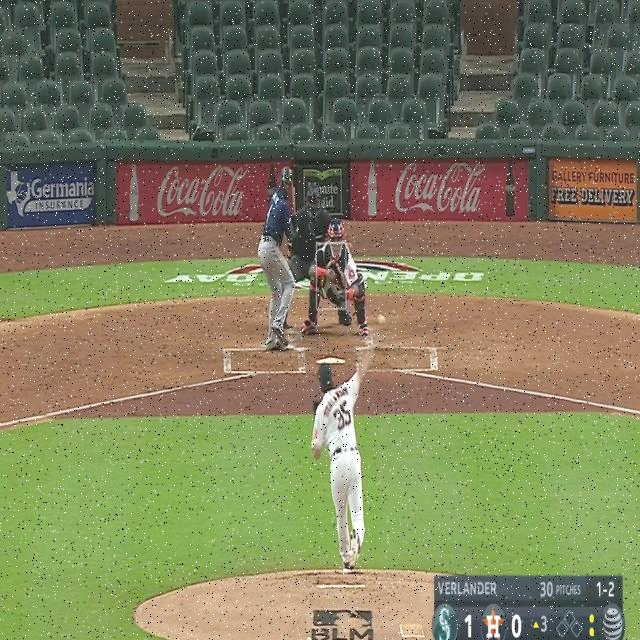baseball: (377, 313, 386, 326)
